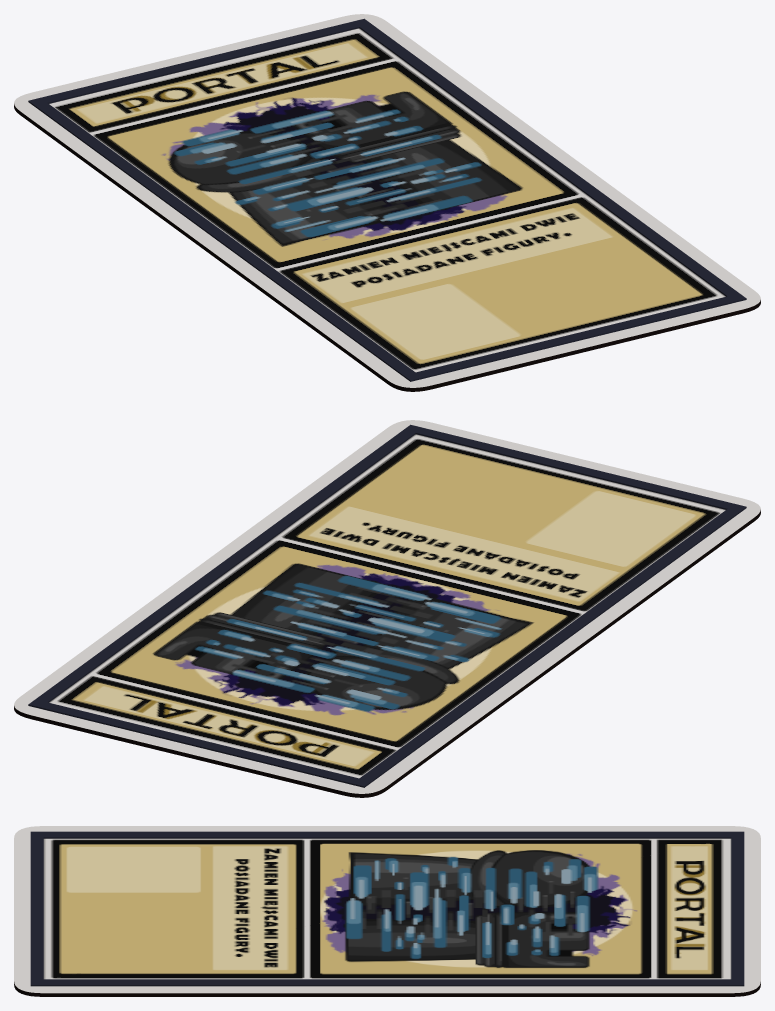
Rendered from AreaHeal.FBX.
The picture shows the model from 3 angles, top to bottom: view 1: azimuth 30°, elevation 25°; view 2: azimuth 150°, elevation 25°; view 3: azimuth 270°, elevation 25°; orthographic projection. The views are drawn at different scales.
Parts seen in each view (by area): view 1: front, frame, side; view 2: front, frame, side; view 3: front, frame, side.
Boxes of the visible parts, left/top/right/bottom form: front: left=14, top=14, right=760, bottom=387; frame: left=28, top=18, right=746, bottom=381; side: left=14, top=104, right=760, bottom=391; front: left=14, top=420, right=760, bottom=793; frame: left=28, top=424, right=746, bottom=787; side: left=14, top=510, right=760, bottom=797; front: left=14, top=826, right=760, bottom=993; frame: left=30, top=831, right=744, bottom=986; side: left=14, top=982, right=760, bottom=996.
Bounding box in the file's own units: 31.5 × 0.5556 × 59.47.
2 materials, 1 textured.
